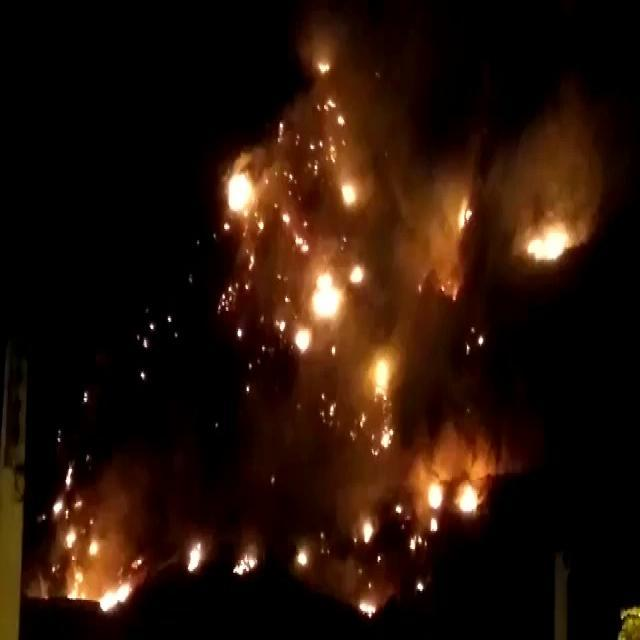Fire: (49, 458, 146, 613), (293, 255, 366, 356), (419, 472, 481, 534), (372, 347, 400, 444), (522, 207, 570, 262), (223, 160, 261, 218), (336, 177, 367, 206), (450, 189, 471, 231), (185, 536, 205, 571), (356, 594, 377, 620), (293, 544, 309, 572), (317, 53, 332, 71)
Smoke: (238, 32, 621, 498)
